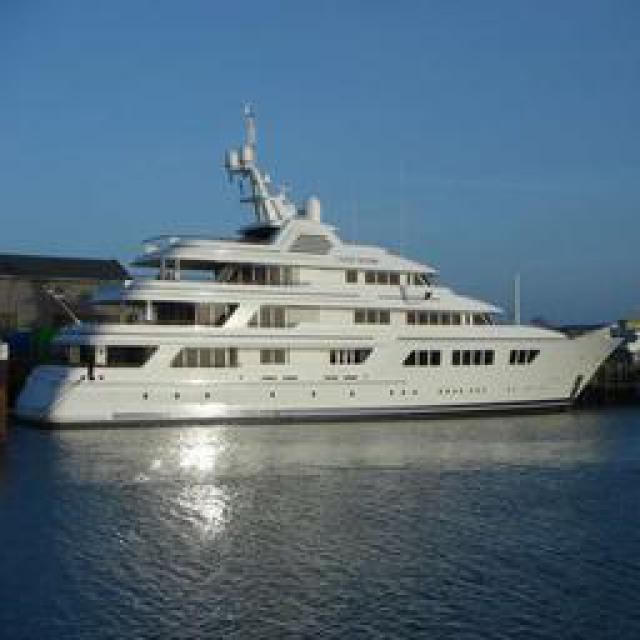Ship: (19, 124, 624, 427)
